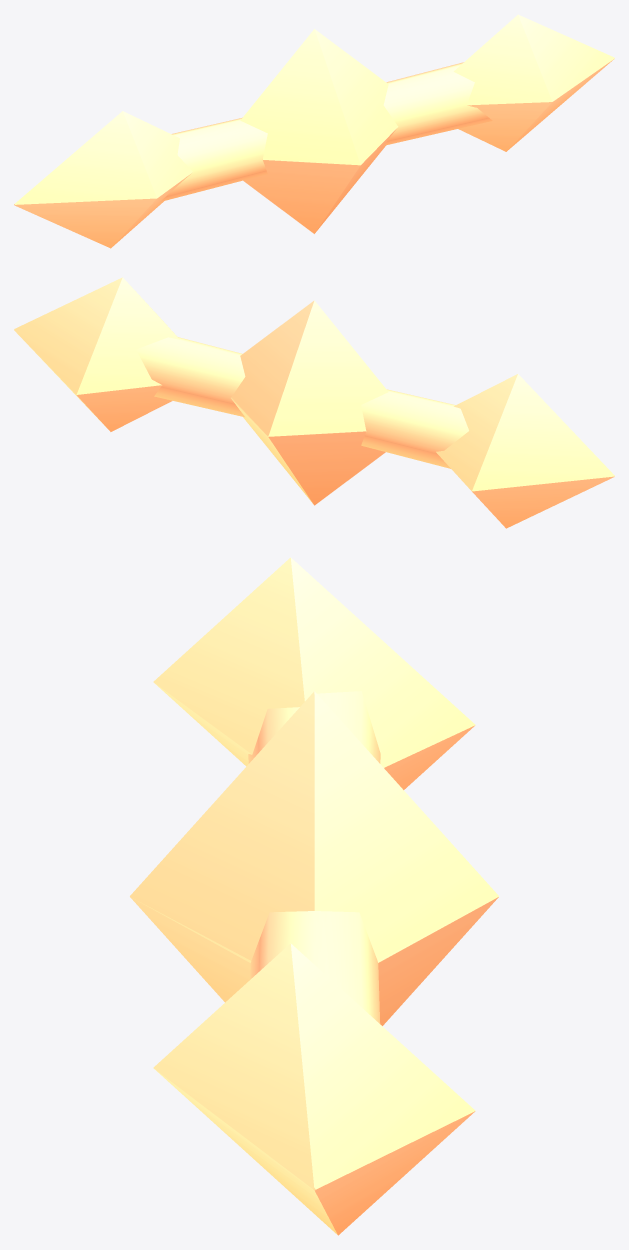
File: wood_guard_068_004.glb
3 renders of one model, top to bottom at view 1: azimuth 30°, elevation 25°; view 2: azimuth 150°, elevation 25°; view 3: azimuth 270°, elevation 25°, orthographic. The views are drawn at different scales.
Visible parts, largest first — view 1: wood_guard_068.004; view 2: wood_guard_068.004; view 3: wood_guard_068.004.
Part boxes in pixels (x1,y1,x2,y2): wood_guard_068.004: (14,14,614,248); wood_guard_068.004: (14,277,614,528); wood_guard_068.004: (130,557,498,1235).
Size of the model in its own units: 8.65 by 2.83 by 2.31.
1 material, 1 textured.
